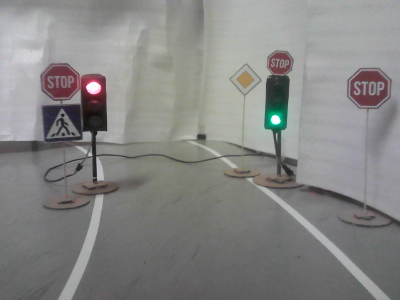crosswalk: (43, 105, 82, 141)
priority_road: (229, 64, 260, 93)
stop: (349, 70, 388, 106), (41, 64, 78, 99), (268, 51, 293, 75)
trafficlight_green: (265, 78, 286, 128)
trafficlight_red: (82, 77, 106, 131)
